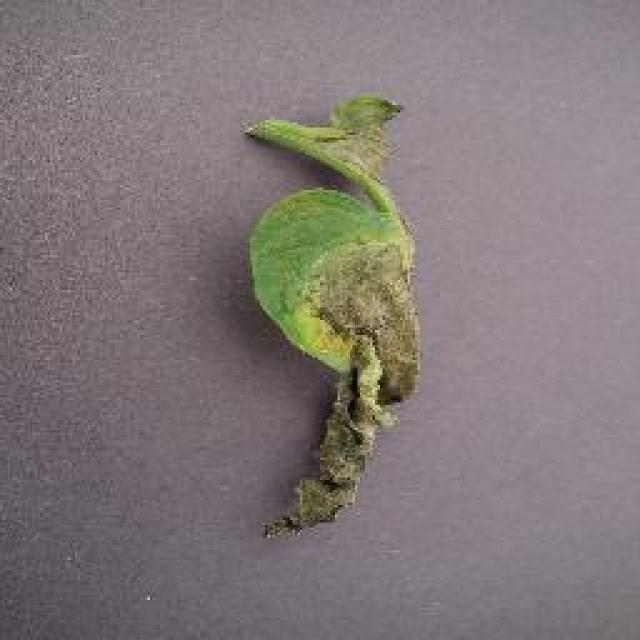Tomato late blight leaf: (236, 92, 432, 540)
